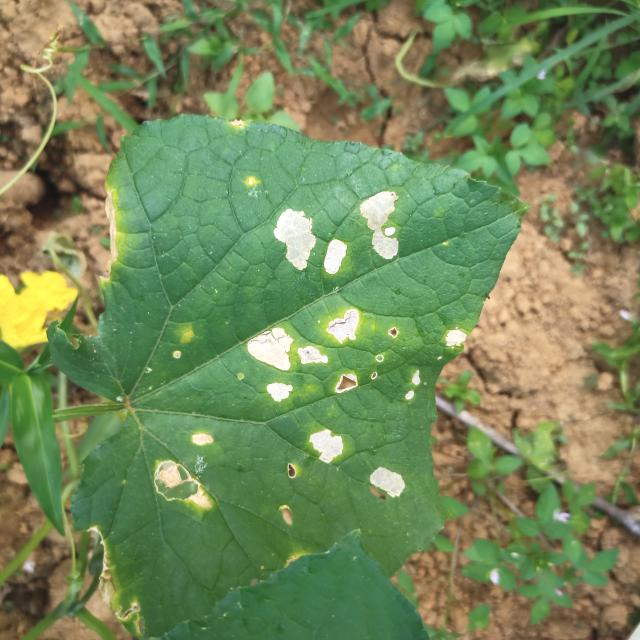disease_cucumber: (246, 301, 364, 405), (150, 431, 220, 512), (272, 206, 348, 277), (359, 185, 401, 262), (369, 461, 404, 502), (308, 427, 343, 464), (403, 367, 423, 402), (442, 325, 468, 351)
